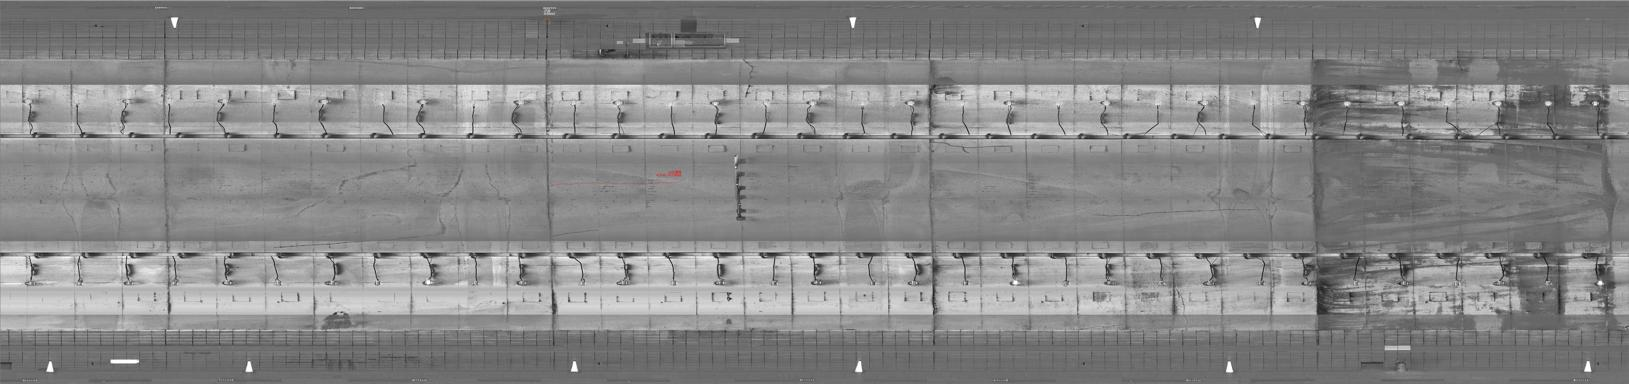light: (1486, 94, 1507, 111), (615, 275, 638, 291), (1190, 95, 1212, 110), (211, 93, 230, 110), (1297, 276, 1319, 290), (312, 93, 331, 109), (462, 95, 482, 111), (604, 95, 627, 108), (412, 94, 431, 110), (1438, 95, 1457, 111), (418, 276, 440, 289), (563, 97, 584, 110), (1389, 97, 1410, 110), (1587, 276, 1608, 290), (1535, 277, 1559, 289), (707, 277, 731, 289), (899, 97, 920, 109), (1392, 277, 1414, 290), (666, 276, 685, 291), (576, 275, 594, 290), (505, 95, 525, 109), (703, 97, 724, 109), (765, 277, 785, 290), (116, 94, 134, 109), (660, 97, 677, 111), (1098, 95, 1116, 110), (1540, 95, 1557, 110), (1099, 276, 1118, 290), (956, 276, 974, 290), (1241, 95, 1261, 108), (1490, 276, 1510, 289), (1202, 277, 1222, 290), (368, 276, 388, 289), (160, 95, 176, 111), (264, 95, 282, 109), (954, 95, 971, 109), (1446, 277, 1465, 290), (21, 277, 39, 290), (70, 95, 85, 110), (166, 275, 182, 290), (321, 277, 341, 289), (268, 277, 288, 289), (372, 95, 389, 109), (1293, 97, 1310, 110), (1587, 97, 1604, 110), (71, 277, 88, 290), (800, 98, 821, 108), (806, 277, 825, 289), (19, 95, 35, 108), (1058, 277, 1075, 289), (512, 277, 530, 289), (119, 277, 137, 289), (1154, 277, 1169, 291), (1148, 97, 1164, 109), (1336, 99, 1355, 109), (904, 277, 920, 289), (219, 277, 236, 289), (1252, 279, 1272, 289), (1007, 278, 1024, 289), (468, 278, 485, 289), (1348, 278, 1364, 290), (1050, 100, 1067, 110), (1002, 97, 1017, 107), (864, 280, 881, 290), (759, 95, 771, 109), (854, 99, 867, 110)
